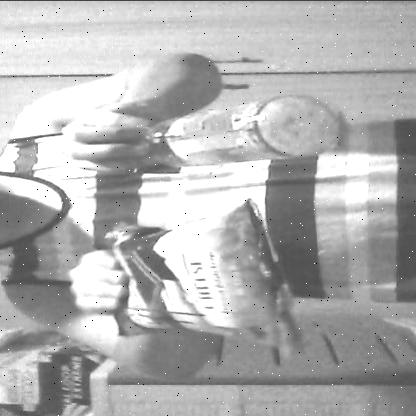Plastic Bottle: (120, 88, 356, 174)
